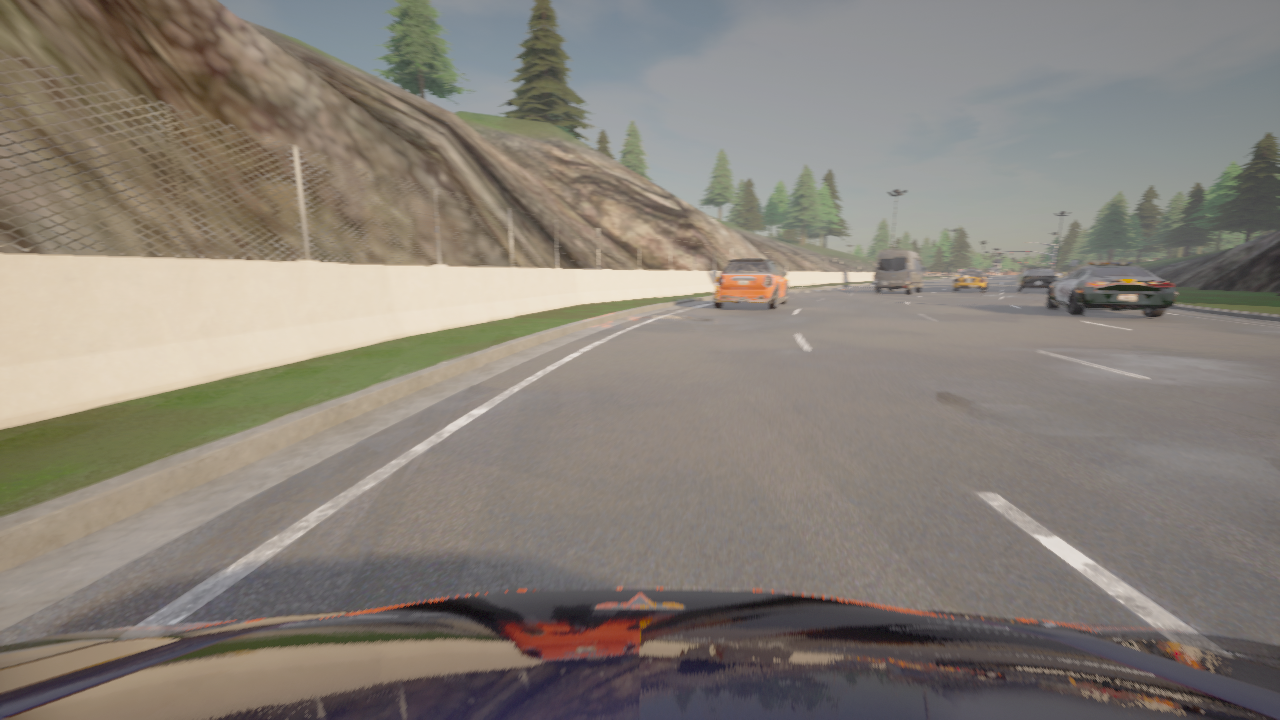cyclist: (0, 588, 1279, 719), (1046, 262, 1176, 317), (713, 258, 788, 309), (874, 250, 924, 293), (1017, 267, 1057, 292), (953, 268, 989, 292)
